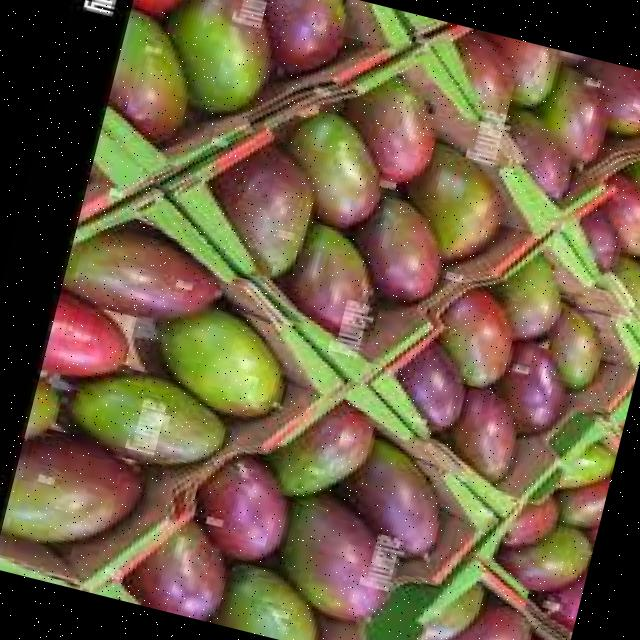mango: (279, 109, 380, 229)
